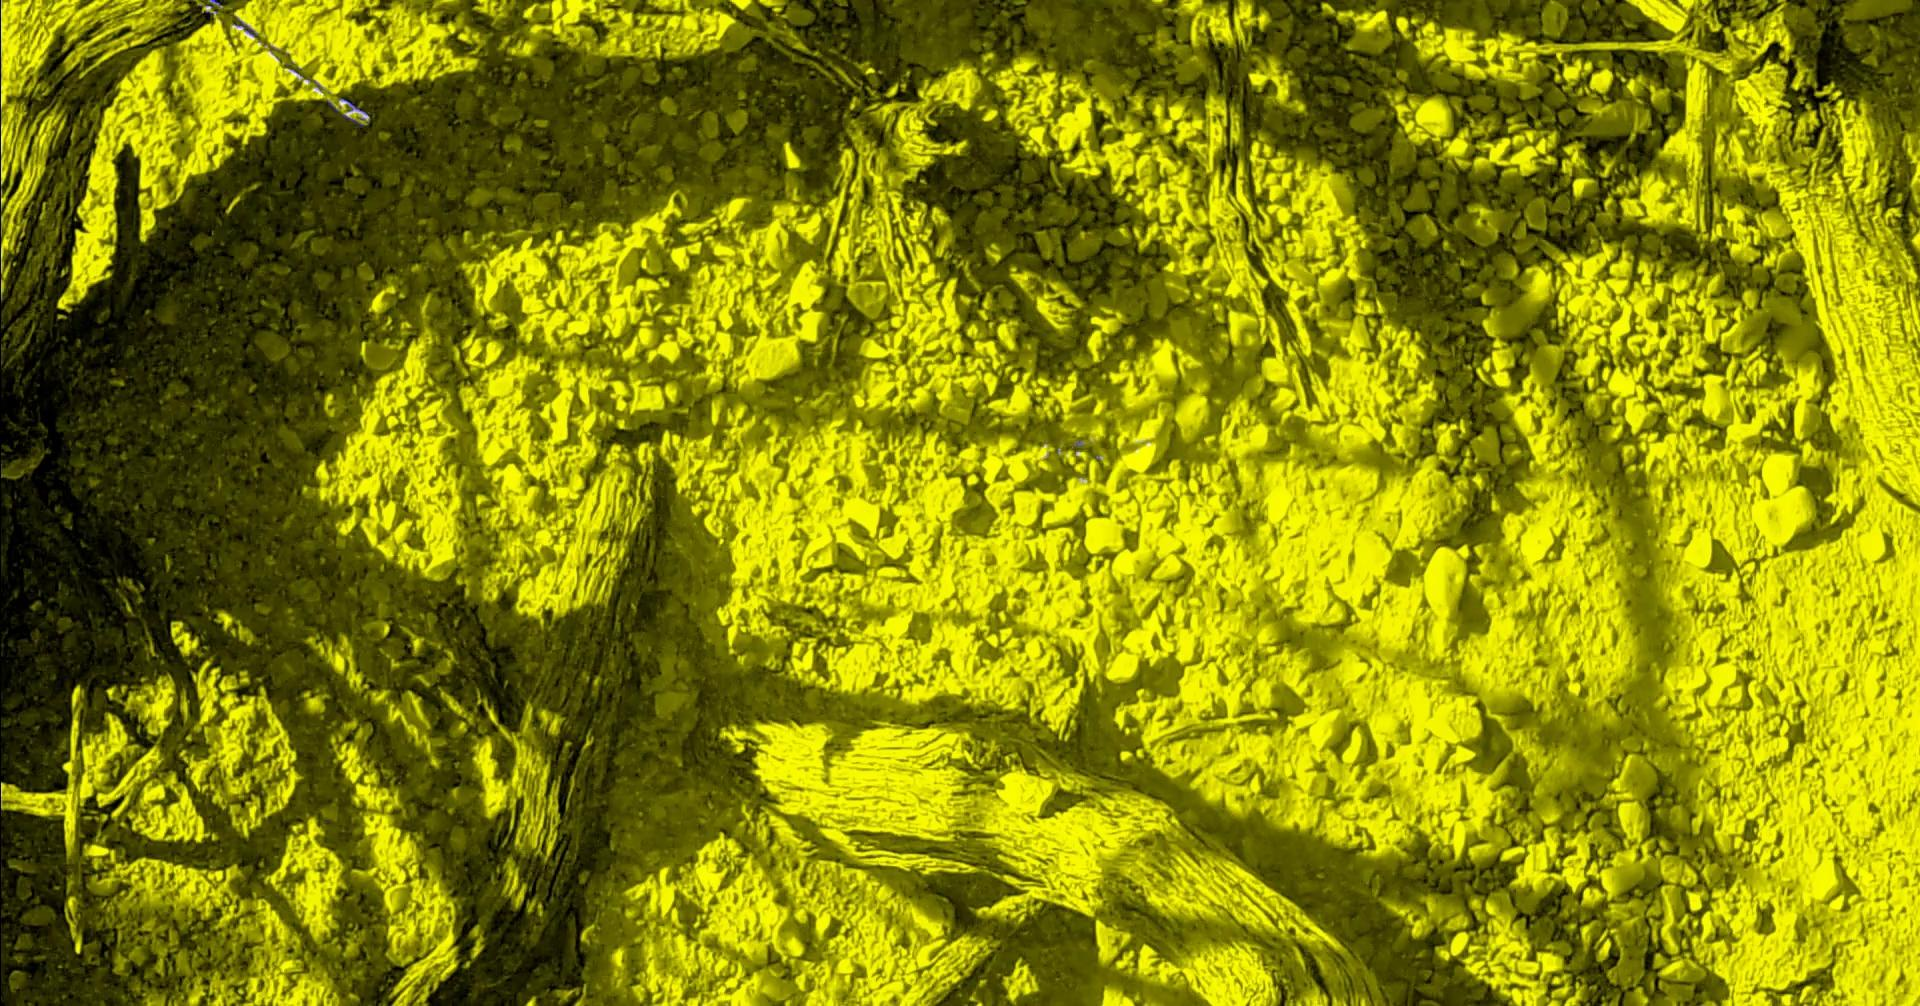ant: (340, 97, 370, 126)
